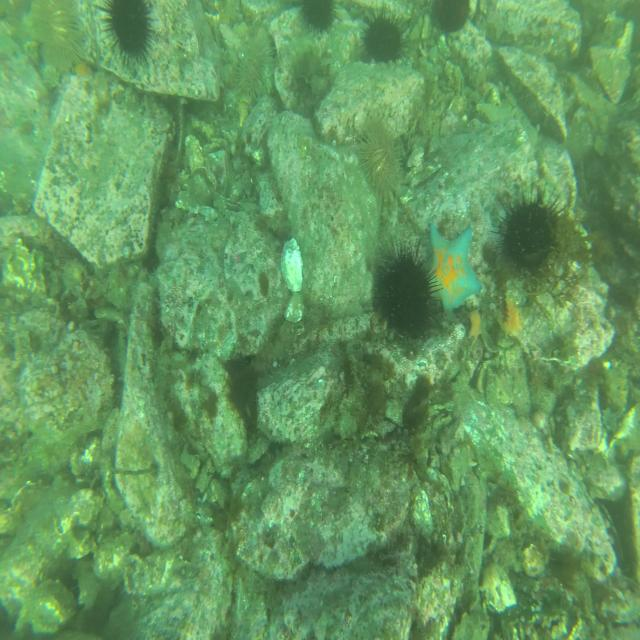echinus: (378, 238, 439, 336), (497, 188, 559, 280), (101, 0, 162, 65), (356, 113, 403, 195), (40, 0, 86, 68), (359, 10, 407, 70), (234, 38, 270, 100), (298, 0, 340, 37)
starfish: (424, 223, 482, 321)
